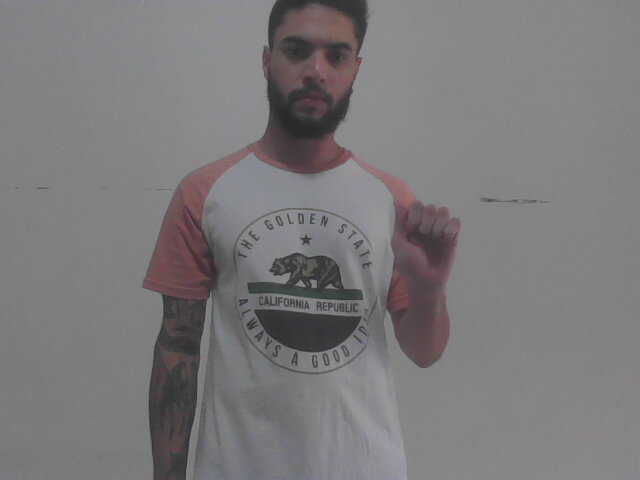a: (388, 191, 465, 293)
